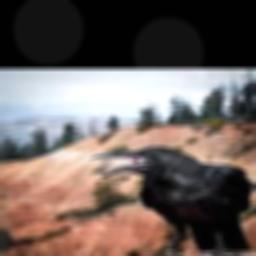Crow: (91, 146, 256, 251)
